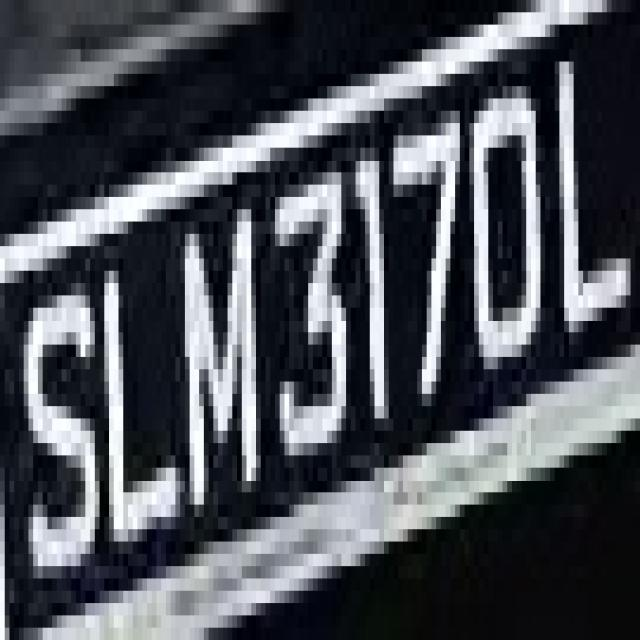0: (465, 61, 545, 418)
1: (356, 123, 394, 492)
3: (275, 160, 356, 455)
7: (388, 86, 464, 443)
L: (550, 61, 635, 394), (104, 209, 180, 566)
M: (176, 197, 270, 517)
S: (24, 271, 104, 591)
